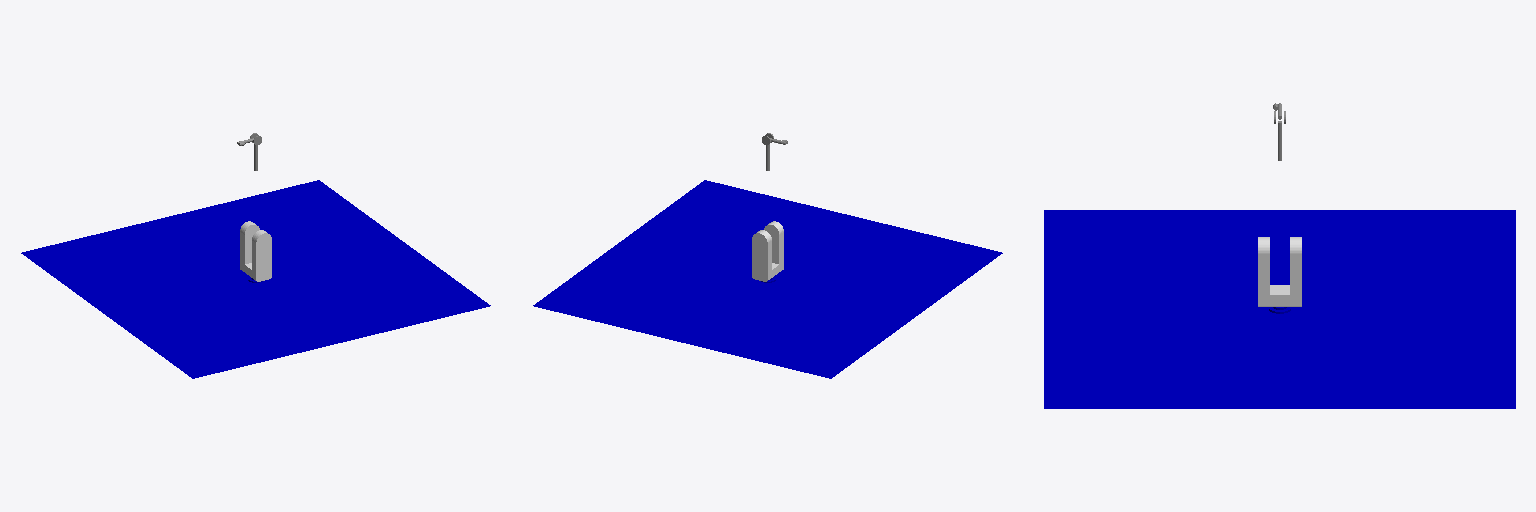
URDF robot description (x6):
<?xml version="1.0" ?>
<!-- =================================================================================== -->
<!-- |    This document was autogenerated by xacro from x6.urdf.xacro                  | -->
<!-- |    EDITING THIS FILE BY HAND IS NOT RECOMMENDED                                 | -->
<!-- =================================================================================== -->
<robot name="x6" xmlns:controller="http://playerstage.sourceforge.net/gazebo/xmlschema/#controller" xmlns:interface="http://playerstage.sourceforge.net/gazebo/xmlschema/#interface" xmlns:sensor="http://playerstage.sourceforge.net/gazebo/xmlschema/#sensor" xmlns:xacro="http://playerstage.sourceforge.net/gazebo/xmlschema/#interface">
  <!-- Included URDF Files -->
  <link name="base">
    <inertial>
      <mass value="10"/>
      <origin rpy="0 0 0" xyz="0.0 0.0 0.0"/>
      <inertia ixx="0.001" ixy="0.0" ixz="0.0" iyy="0.001" iyz="0.0" izz="0.001"/>
    </inertial>
  </link>
  <link name="x6_base_link">
    <visual>
      <geometry>
        <mesh filename="package://x6_description/meshes/x6_common/x6_link_0_gnd.dae"/>
        <!--<cylinder radius="${base_radius}" length="${base_height}"/>-->
      </geometry>
      <origin rpy="0 0 0" xyz="0 0 0.004"/>
      <material name="blue">
        <color rgba="0 0 .8 1"/>
      </material>
    </visual>
    <collision>
      <geometry>
        <!--<cylinder radius="${base_radius}" length="${base_height}"/>-->
        <mesh filename="package://x6_description/meshes/x6_common/x6_link_0_gnd.stl"/>
      </geometry>
      <origin rpy="0 0 0" xyz="0 0 0.004"/>
    </collision>
    <inertial>
      <mass value="0.1"/>
      <origin rpy="0 0 0" xyz="0.0 0.0 0.0"/>
      <inertia ixx="0.001" ixy="0.0" ixz="0.0" iyy="0.001" iyz="0.0" izz="0.001"/>
    </inertial>
  </link>
  <gazebo reference="x6_base_link">
    <selfCollide>true</selfCollide>
    <material>x6_material/Grey</material>
    <!--<material>HLUGV/Green</material>-->
  </gazebo>
  <link name="x6_link1">
    <visual>
      <geometry>
        <mesh filename="package://x6_description/meshes/x6_common/x6_link_1.dae"/>
        <!--                    <box size="${j1_x} ${j1_y} ${j1_z}" />-->
      </geometry>
      <origin rpy="0 0 1.5707963268" xyz="0 0 -0.008"/>
      <material name="green">
        <color rgba="0.9 0.9 0.9 1"/>
      </material>
    </visual>
    <collision>
      <geometry>
        <mesh filename="package://x6_description/meshes/x6_common/x6_link_1.stl"/>
        <!--<box size="${j1_x} ${j1_y} ${j1_z}" />-->
      </geometry>
      <origin rpy="0 0 1.5707963268" xyz="0 0 -0.008"/>
    </collision>
    <inertial>
      <mass value="3"/>
      <origin rpy="0 0 0" xyz="0.0 0.0 0.0"/>
      <inertia ixx="0.001" ixy="0.0" ixz="0.0" iyy="0.001" iyz="0.0" izz="0.001"/>
    </inertial>
  </link>
  <gazebo reference="x6_link1">
    <selfCollide>true</selfCollide>
    <material>x6_material/White</material>
    <!--<material>Gazebo/Blue</material>-->
  </gazebo>
  <link name="x6_link2">
    <visual>
      <geometry>
        <mesh filename="package://x6_description/meshes/x6_common/x6_link_2.dae"/>
        <!--<mesh filename="package://katana_description/meshes/katana/katana_internal_controlbox.stl" />-->
      </geometry>
      <!--<origin xyz="${j2_length/2 - j2_overhang_rear/2 } 0 0" rpy="0 ${pi/2} 0"/>-->
      <origin rpy="0 1.5707963268 3.1415926536" xyz="0 0 0"/>
      <material name="red">
        <color rgba="0.6 0.6 0.6 1"/>
      </material>
    </visual>
    <collision>
      <geometry>
        <mesh filename="package://x6_description/meshes/x6_common/x6_link_2.stl"/>
        <!--<cylinder radius="0.02" length="${j2_length}" />-->
      </geometry>
      <origin rpy="0 1.5707963268 3.1415926536" xyz="0 0 0"/>
    </collision>
    <inertial>
      <mass value="0.5"/>
      <origin rpy="0 0 0" xyz="0.0 0.0 0.0"/>
      <inertia ixx="0.001" ixy="0.0" ixz="0.0" iyy="0.001" iyz="0.0" izz="0.001"/>
    </inertial>
  </link>
  <gazebo reference="x6_link2">
    <selfCollide>true</selfCollide>
    <material>x6_material/Grey</material>
    <!--<material>HLUGV/Green</material>-->
  </gazebo>
  <link name="x6_link3">
    <visual>
      <geometry>
        <mesh filename="package://x6_description/meshes/x6/x6_link_3.dae"/>
        <!--<cylinder radius="0.02" length="${j3_length}" />-->
      </geometry>
      <origin rpy="1.5707963268 0 1.5707963268" xyz="0 0 0"/>
      <material name="red">
                  
                </material>
    </visual>
    <collision>
      <geometry>
        <mesh filename="package://x6_description/meshes/x6/x6_link_3.stl"/>
        <!--  <cylinder radius="0.02" length="${j3_length}" />-->
      </geometry>
      <origin rpy="1.5707963268 0 1.5707963268" xyz="0 0 0"/>
    </collision>
    <inertial>
      <mass value="0.1"/>
      <origin rpy="0 0 0" xyz="0.0 0.0 0.0"/>
      <inertia ixx="0.001" ixy="0.0" ixz="0.0" iyy="0.001" iyz="0.0" izz="0.001"/>
    </inertial>
  </link>
  <gazebo reference="x6_link3">
    <selfCollide>true</selfCollide>
    <material>x6_material/Grey</material>
    <!--<material>HLUGV/Green</material>-->
  </gazebo>
  <link name="x6_link4">
    <visual>
      <geometry>
        <mesh filename="package://x6_description/meshes/x6/x6_link_4.dae"/>
        <!--                    <cylinder radius="0.002" length="0.001" />-->
      </geometry>
      <origin rpy="3.1415926536 0 0" xyz="0 0 -0.1"/>
      <material name="red">
                  
                </material>
    </visual>
    <collision>
      <geometry>
        <mesh filename="package://x6_description/meshes/x6/x6_link_4.stl"/>
        <!--<cylinder radius="0.02" length="${j4_length}" />-->
      </geometry>
      <origin rpy="3.1415926536 0 0" xyz="0 0 -0.1"/>
    </collision>
    <inertial>
      <mass value="0.01"/>
      <origin rpy="0 0 0" xyz="0.0 0.0 0.0"/>
      <inertia ixx="0.001" ixy="0.0" ixz="0.0" iyy="0.001" iyz="0.0" izz="0.001"/>
    </inertial>
  </link>
  <gazebo reference="x6_link5">
    <selfCollide>true</selfCollide>
    <material>x6_material/Grey</material>
    <!--<material>HLUGV/Green</material>-->
  </gazebo>
  <link name="x6_link5">
    <visual>
      <geometry>
        <mesh filename="package://x6_description/meshes/x6_common/x6_link_4_0120.dae"/>
        <!--  <cylinder radius="0.02" length="${j4_length}" />-->
      </geometry>
      <origin rpy="-1.5707963268 0 0" xyz="0 0 0"/>
      <material name="red">
                  
                </material>
    </visual>
    <collision>
      <geometry>
        <mesh filename="package://x6_description/meshes/x6_common/x6_link_4_0120.stl"/>
        <!--<cylinder radius="0.02" length="${j4_length}" />-->
      </geometry>
      <origin rpy="-1.5707963268 0 0" xyz="0 0 0"/>
    </collision>
    <inertial>
      <mass value="0.01"/>
      <origin rpy="0 0 0" xyz="0.0 0.0 0.0"/>
      <inertia ixx="0.001" ixy="0.0" ixz="0.0" iyy="0.001" iyz="0.0" izz="0.001"/>
    </inertial>
  </link>
  <gazebo reference="x6_link5">
    <selfCollide>true</selfCollide>
    <material>x6_material/Grey</material>
    <!--<material>HLUGV/Green</material>-->
  </gazebo>
  <link name="x6_link6">
    <visual>
      <geometry>
        <mesh filename="package://x6_description/meshes/x6/x6_link_6.dae"/>
        <!--<cylinder radius="0.002" length="0.001" />-->
      </geometry>
      <origin rpy="0 0 0" xyz="0 0 -0.036"/>
      <material name="red">
                  
                </material>
    </visual>
    <collision>
      <geometry>
        <mesh filename="package://x6_description/meshes/x6/x6_link_6.stl"/>
        <!--<cylinder radius="0.002" length="0.001" />-->
      </geometry>
      <origin rpy="0 0 0" xyz="0 0 -0.036"/>
    </collision>
    <inertial>
      <mass value="0.01"/>
      <origin rpy="0 0 0" xyz="0.0 0.0 0.0"/>
      <inertia ixx="0.001" ixy="0.0" ixz="0.0" iyy="0.001" iyz="0.0" izz="0.001"/>
    </inertial>
  </link>
  <gazebo reference="x6_link6">
    <selfCollide>true</selfCollide>
    <material>x6_material/Grey</material>
    <!--<material>HLUGV/Green</material>-->
  </gazebo>
  <link name="x6_toolframe">
    <visual>
      <geometry>
        <mesh filename="package://x6_description/meshes/x6_common/x6_rot_racket.dae"/>
      </geometry>
      <origin rpy="0 -1.5707963268 3.1415926536" xyz="-0.0015 0 0.01"/>
      <material name="blue">
        <color rgba="0 0 .8 1"/>
      </material>
    </visual>
    <collision>
      <geometry>
        <!-- <box size="0.009 0.025 0.003"/> -->
        <mesh filename="package://x6_description/meshes/x6_common/x6_rot_racket.stl"/>
      </geometry>
      <origin rpy="0 -1.5707963268 3.1415926536" xyz="-0.0015 0 0.01"/>
    </collision>
    <inertial>
      <mass value="0.05"/>
      <origin rpy="0 0 0" xyz="0.0 0.0 0.0"/>
      <inertia ixx="0.001" ixy="0.0" ixz="0.0" iyy="0.001" iyz="0.0" izz="0.001"/>
    </inertial>
  </link>
  <gazebo reference="x6_toolframe">
    <selfCollide>true</selfCollide>
    <material>x6_material/Grey</material>
    <!--<material>HLUGV/Green</material>-->
  </gazebo>
  <joint name="x6_base_joint" type="fixed">
    <origin rpy="0 0 0" xyz="0 0 0"/>
    <parent link="base"/>
    <child link="x6_base_link"/>
  </joint>
  <joint name="joint1" type="revolute">
    <parent link="x6_base_link"/>
    <child link="x6_link1"/>
    <axis xyz="0 0 1"/>
    <origin xyz="0 0 0.008"/>
    <limit effort="50.0" lower="-2.53" upper="2.53" velocity="2.617"/>
    <!-- TODO: give correct effort limits -->
    <dynamics damping="1.0" friction="1.0"/>
  </joint>
  <joint name="joint2" type="revolute">
    <parent link="x6_link1"/>
    <child link="x6_link2"/>
    <axis xyz="0 0 1"/>
    <origin rpy="1.5707963268 0 0" xyz="0 0 0.276"/>
    <limit effort="50.0" lower="-2.181" upper="2.0071" velocity="2.617"/>
    <dynamics damping="1.0" friction="1.0"/>
  </joint>
  <joint name="joint3" type="revolute">
    <parent link="x6_link2"/>
    <child link="x6_link3"/>
    <axis xyz="0 0 1 "/>
    <origin rpy="0 0 1.5707963268" xyz="0 0.307 0"/>
    <limit effort="30.0" lower="-2.007" upper="2.007" velocity="2.617"/>
    <dynamics damping="1.0" friction="1.0"/>
  </joint>
  <joint name="joint4" type="revolute">
    <parent link="x6_link3"/>
    <child link="x6_link4"/>
    <axis xyz="0 0 1"/>
    <origin rpy="1.5707963268 0 -1.5707963268" xyz="0 0 0.0"/>
    <limit effort="30.0" lower="-1.83" upper="1.83" velocity="2.617"/>
    <!-- TODO: give correct effort limits -->
    <dynamics damping="1.0" friction="1.0"/>
  </joint>
  <joint name="joint5" type="revolute">
    <parent link="x6_link4"/>
    <child link="x6_link5"/>
    <axis xyz="0 0 1"/>
    <!-- <origin xyz="0 0 ${-j3_length - j4_length}" rpy="${-pi/2} 0 0"/> -->
    <origin rpy="-1.5707963268 1.5707963268 0" xyz="0 0 -0.311"/>
    <limit effort="30.0" lower="-1.57" upper="1.57" velocity="2.617"/>
    <!-- <limit effort="0.1" lower="0.01" upper="0.01" velocity="0.1"/> -->
    <dynamics damping="1.0" friction="1.0"/>
  </joint>
  <joint name="joint6" type="revolute">
    <parent link="x6_link5"/>
    <child link="x6_link6"/>
    <axis xyz="0 0 1"/>
    <origin rpy="-1.5707963268 0 0" xyz="0 0.126 0.018"/>
    <limit effort="10.0" lower="-1.57" upper="1.57" velocity="2.617"/>
    <!-- TODO: give correct effort limits -->
    <dynamics damping="1.0" friction="1.0"/>
  </joint>
  <joint name="tool_frame" type="fixed">
    <parent link="x6_link6"/>
    <child link="x6_toolframe"/>
    <axis xyz="0 0 1"/>
    <!-- <origin xyz="0 ${j6_length} 0" rpy="0 0 ${pi/2}"/> -->
    <origin rpy="0 -1.5707963268 4.7123889804" xyz="0 0.012 0.11"/>
  </joint>
  <transmission name="joint1_trans" type="pr2_mechanism_model/SimpleTransmission">
    <actuator name="joint1_motor"/>
    <joint name="joint1"/>
    <mechanicalReduction>1.0</mechanicalReduction>
  </transmission>
  <transmission name="joint2_trans" type="pr2_mechanism_model/SimpleTransmission">
    <actuator name="joint2_motor"/>
    <joint name="joint2"/>
    <mechanicalReduction>1.0</mechanicalReduction>
  </transmission>
  <transmission name="joint3_trans" type="pr2_mechanism_model/SimpleTransmission">
    <actuator name="joint3_motor"/>
    <joint name="joint3"/>
    <mechanicalReduction>1.0</mechanicalReduction>
  </transmission>
  <transmission name="joint4_trans" type="pr2_mechanism_model/SimpleTransmission">
    <actuator name="joint4_motor"/>
    <joint name="joint4"/>
    <mechanicalReduction>1.0</mechanicalReduction>
  </transmission>
  <transmission name="joint6_trans" type="pr2_mechanism_model/SimpleTransmission">
    <actuator name="joint6_motor"/>
    <joint name="joint6"/>
    <mechanicalReduction>1.0</mechanicalReduction>
  </transmission>
</robot>

--- Facts derived from the render (not from the file) ---
Views: 3 orthographic renders of the robot side by side, from view 1: azimuth 30°, elevation 25°; view 2: azimuth 150°, elevation 25°; view 3: azimuth 270°, elevation 25°.
Robot: x6 — 9 links, 8 joints (6 revolute, 2 fixed); root link base; default pose: every joint at zero.
Visible links, largest first — view 1: x6_base_link, x6_link1; view 2: x6_base_link, x6_link1; view 3: x6_base_link, x6_link1.
Link boxes in pixels (<box>): x6_base_link: <box>21,180,490,378</box>; x6_link1: <box>240,221,271,281</box>; x6_base_link: <box>533,180,1002,378</box>; x6_link1: <box>752,221,783,281</box>; x6_base_link: <box>1044,210,1515,408</box>; x6_link1: <box>1258,237,1301,306</box>.
Bounding box of the posed robot: 2 × 2 × 0.9269 m (x, y, z).
5 mesh visuals loaded from 8 distinct referenced files (5 Collada DAE); not drawn: 3 (reference not matched to a file when rendering).